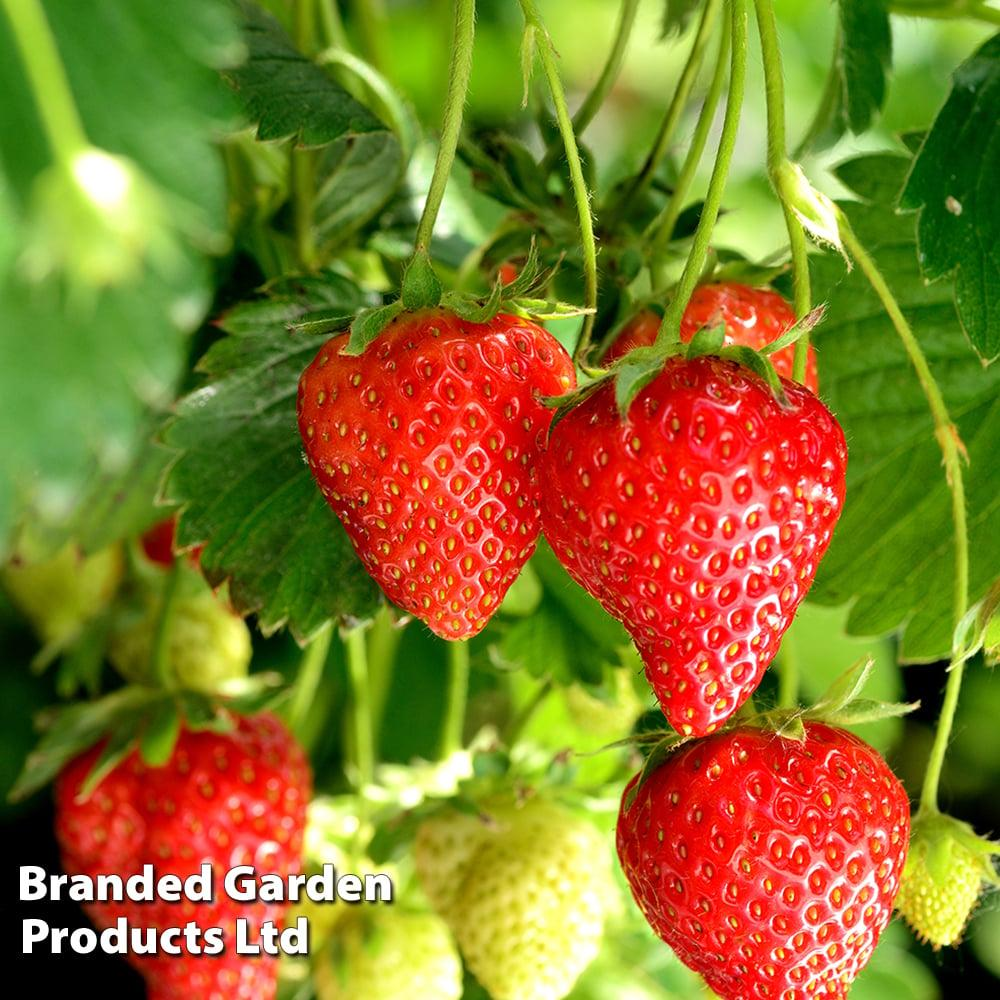apple: (526, 344, 855, 737), (574, 714, 943, 1000), (292, 268, 567, 644)
